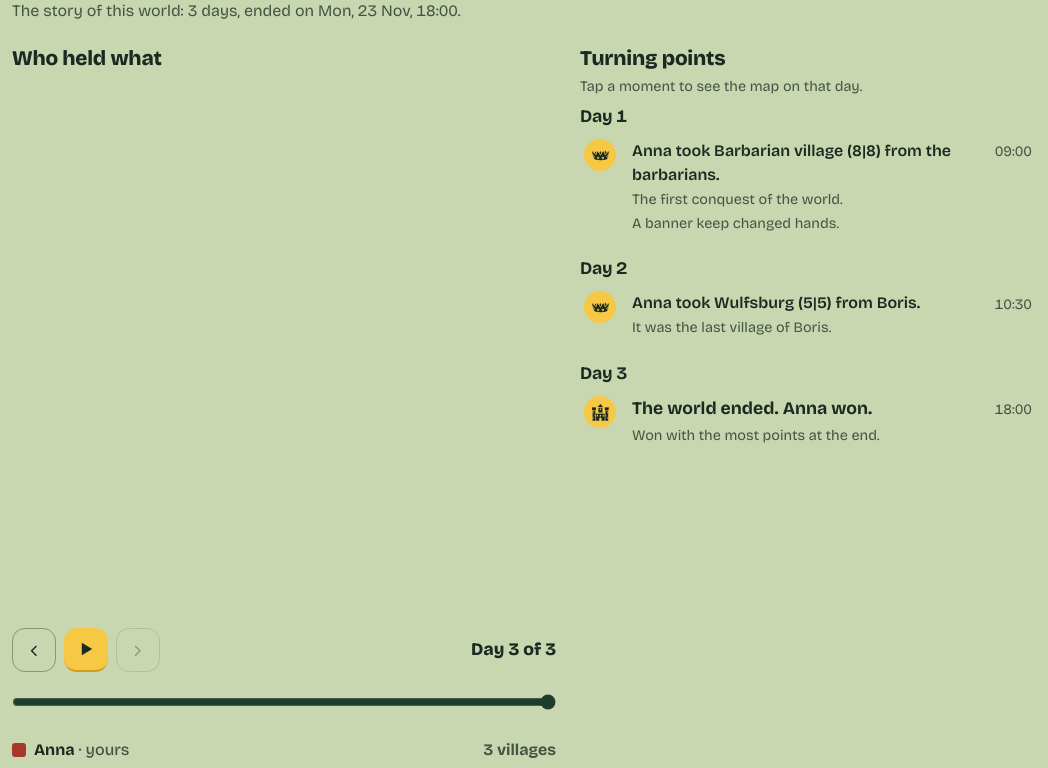
Test: ChroniclePage (2.1 I1) › steps, slides and plays through the days
This screenshot has width=1048, height=768.
(page scrolled)
Step 1. Click the button named "Day before" → x=34, y=650, box [12,628,56,672]
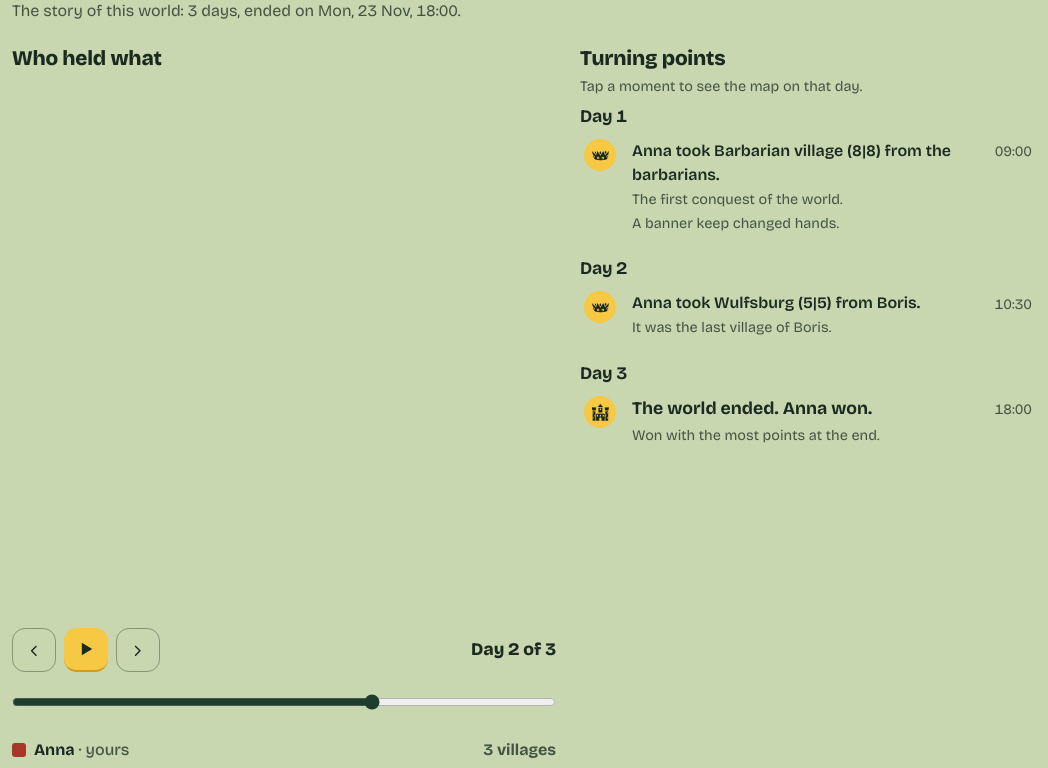
Expected: the text "Day 2 of 3" is shown, [471,637,556,664]
Step 2. Set the slider named "Day" to "0" → x=20, y=702, box [12,680,556,724]
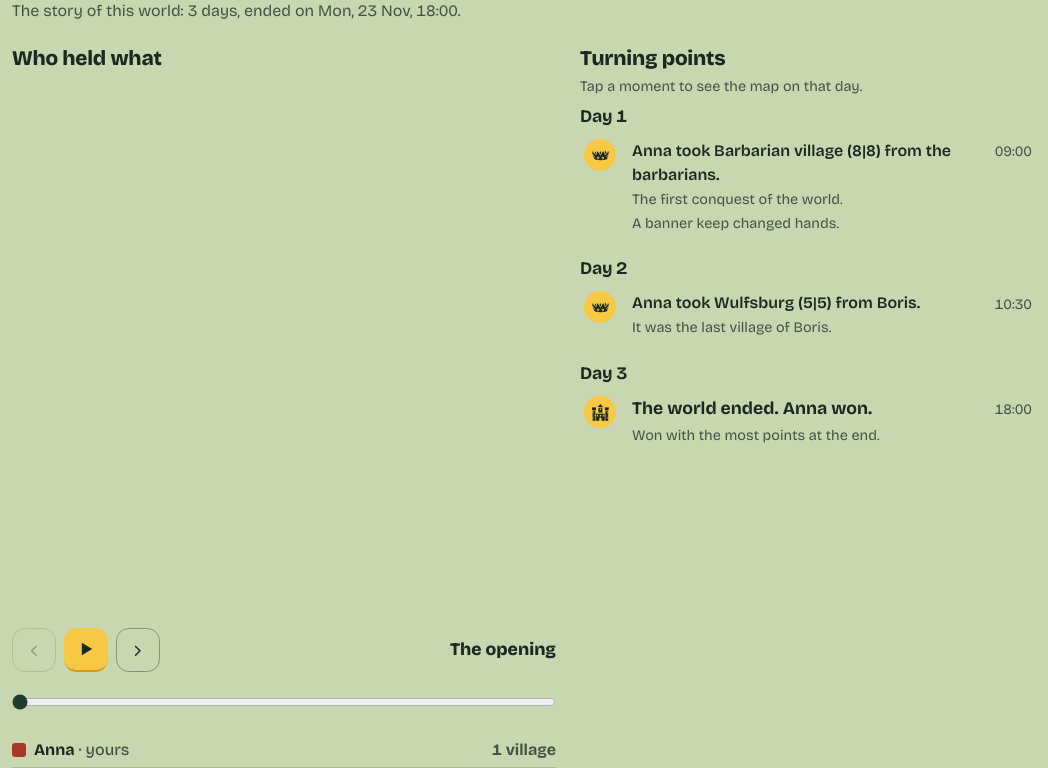
Expected: the text "The opening" is shown, [450,637,556,664]
Expected: the text "1 village" is shown 2 times
Step 3. Click the button named "Play" → x=86, y=650, box [64,628,108,672]
Wait 3600 ms
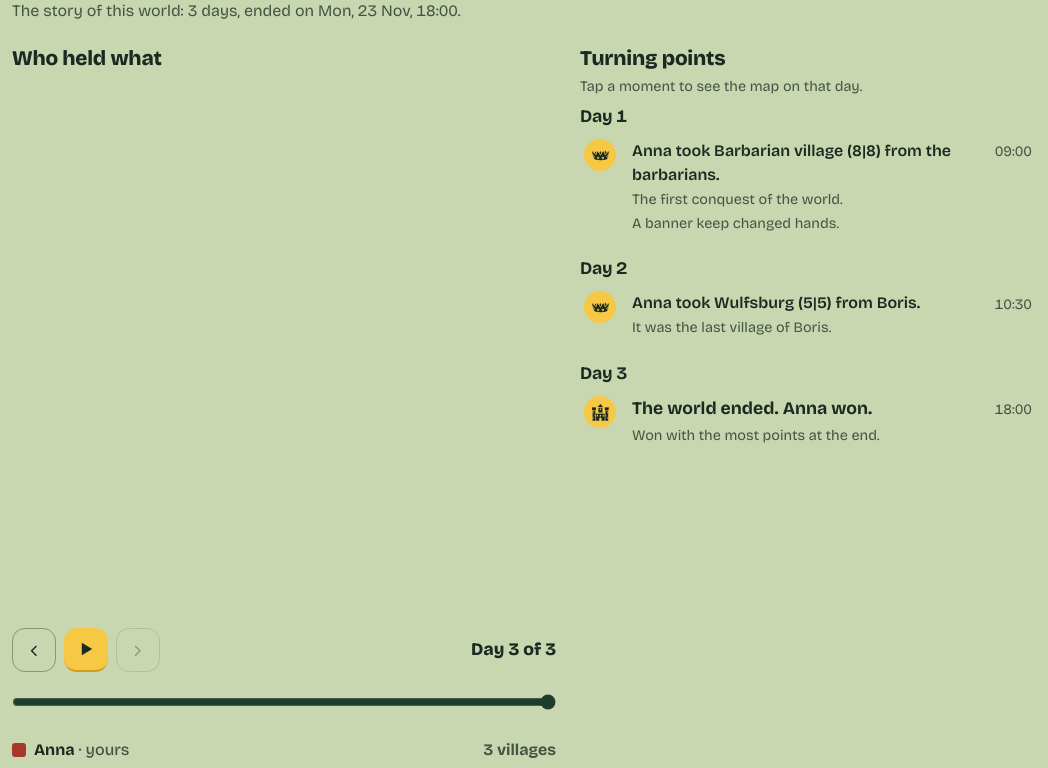
Expected: the text "Day 3 of 3" is shown, [471,637,556,664]
Expected: the button named "Day after" is disabled, [116,628,160,672]
